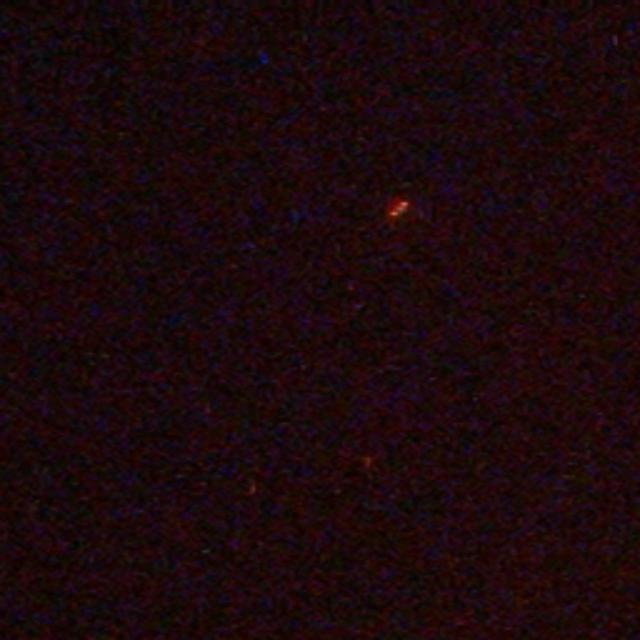Fibre: (388, 198, 412, 220)
